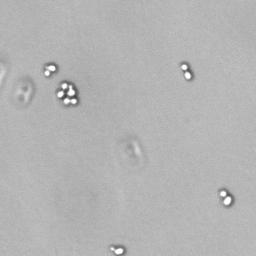budding: (178, 60, 195, 82), (218, 186, 235, 208), (107, 243, 128, 256), (43, 63, 57, 78)
cluster: (53, 79, 80, 106)
